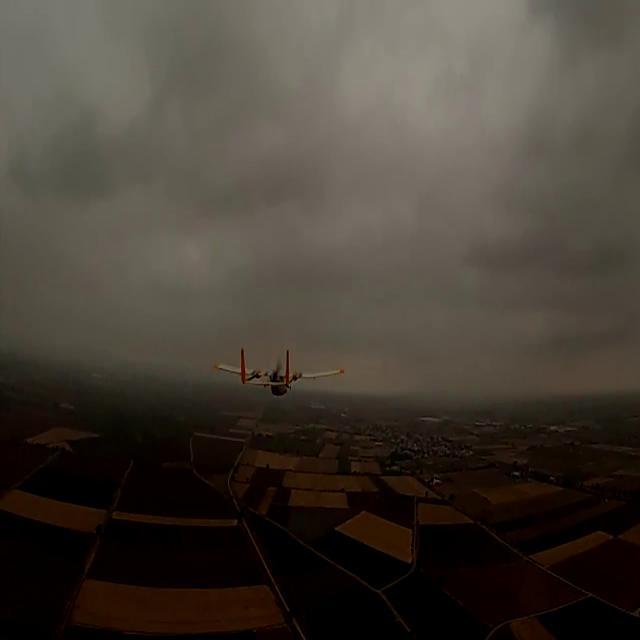iha: (207, 366, 351, 369)
